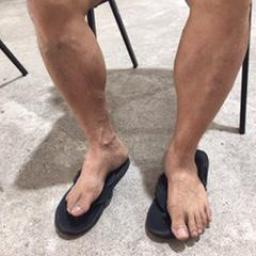Front View -Both Feet-: (55, 91, 224, 243)
